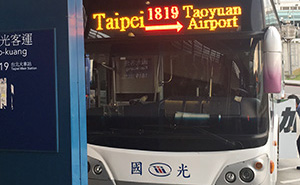destination: (87, 0, 242, 39)
